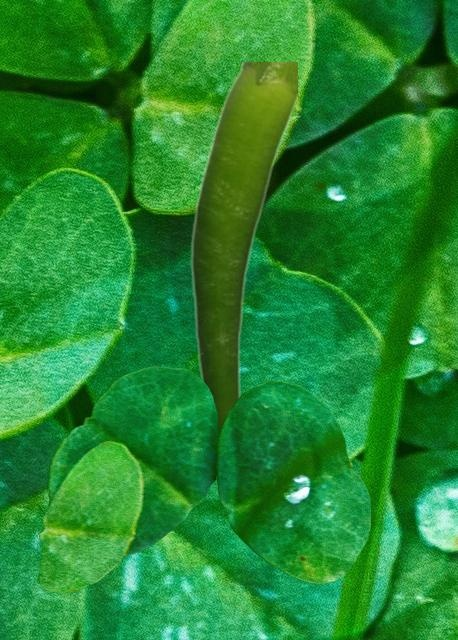green_chili: (190, 62, 296, 428)
